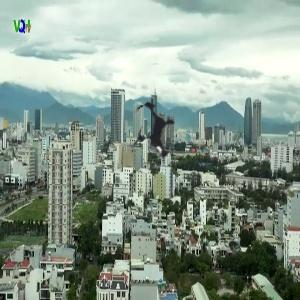drone: (102, 82, 205, 185)
